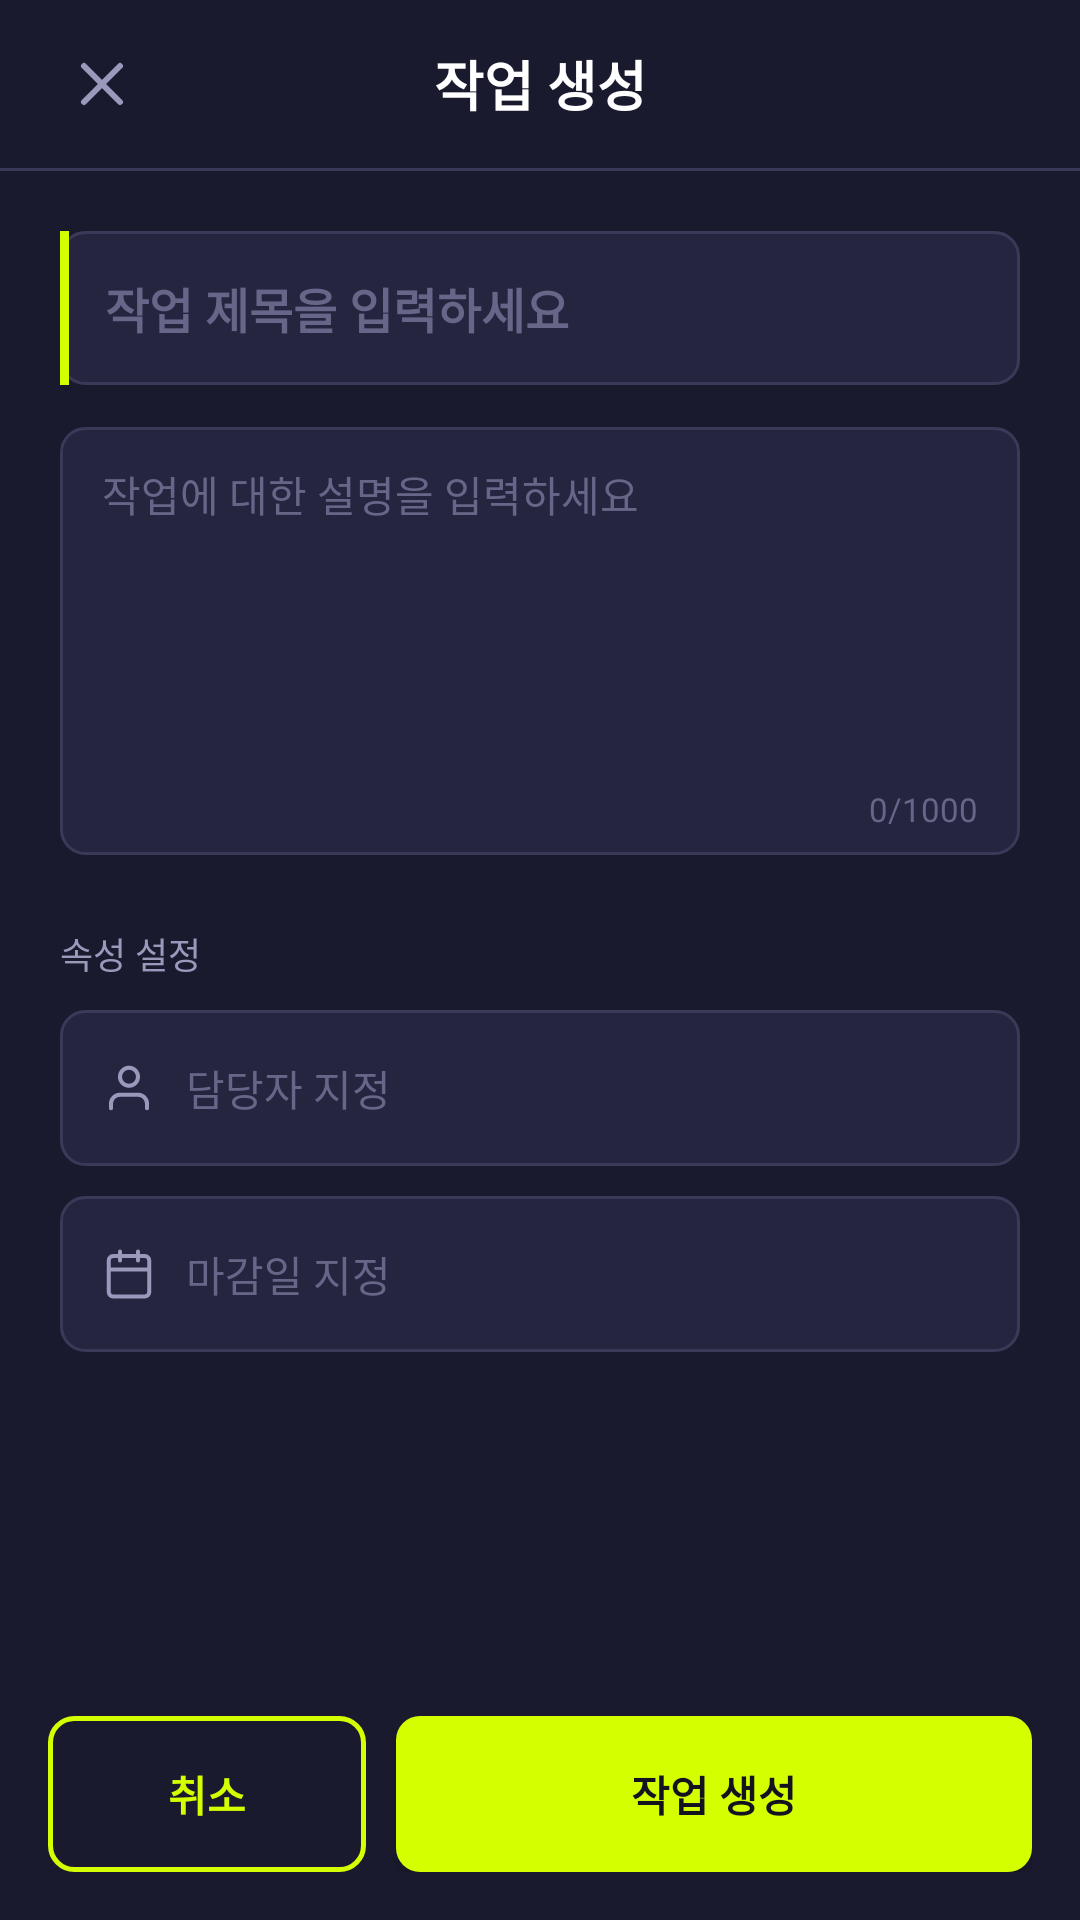

Icon click points for this 1080*1920 phone screenshot, format (x,y):
calendar: (129,1274)
person: (129,1087)
닫기: (102,84)
